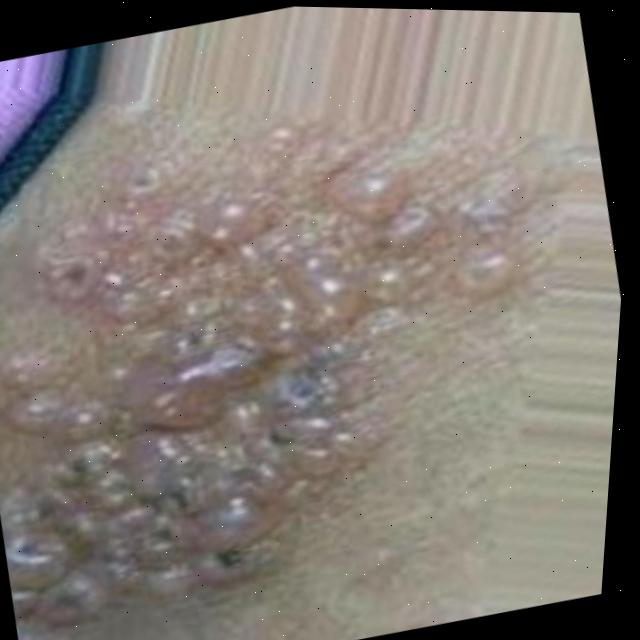Shingles: (0, 83, 599, 640)
